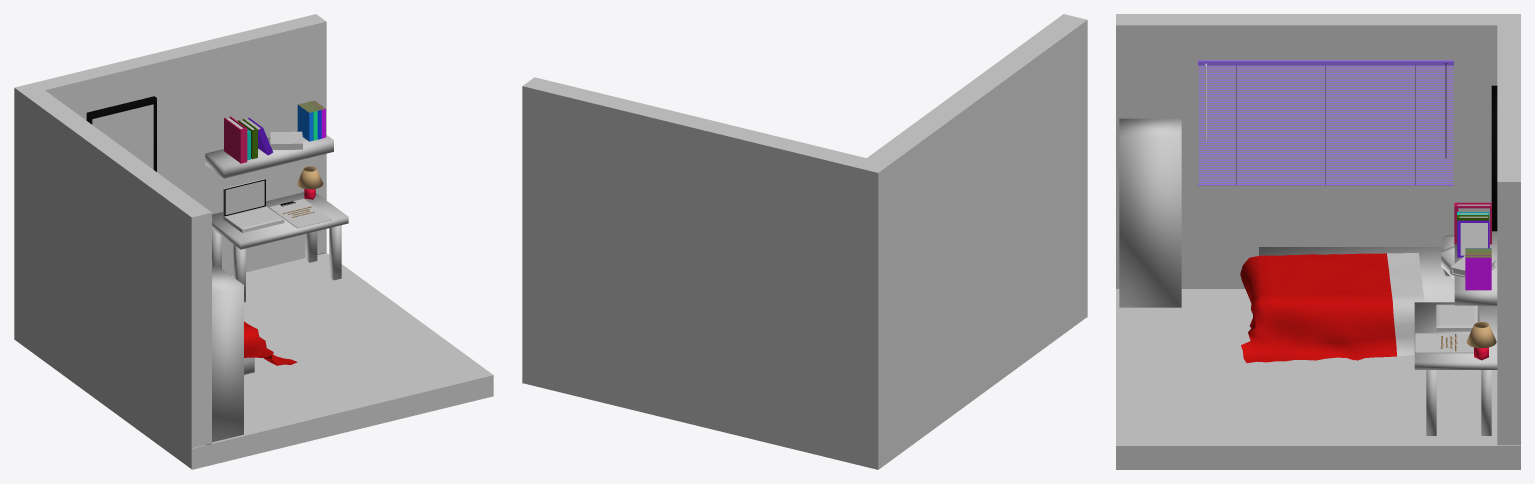
The model's file is projcom.obj.
3 renders of one model, left to right at view 1: azimuth 30°, elevation 25°; view 2: azimuth 150°, elevation 25°; view 3: azimuth 270°, elevation 25°, orthographic. The views are drawn at different scales.
Visible parts, largest first — view 1: Room_Wall_0, Room_Floor_0, Cube.005_Table_0, Table_Table_0, Book_CoverA_0, Cube.007_Images_0, Cube.004_Desktop_0, board_1_board_0, Book3_Book3_side_material_0, Plane_ClothB_0, Cube.007_Black_0, Cube.004_Computer_0 (+2 smaller); view 2: Room_Wall_0; view 3: Room_Wall_0, Room_Floor_0, Room_Windows_0, Venetian_slats_Plastic_venetian_material_0, Plane_ClothB_0, Cube.005_Wardrop_0, Table_Table_0, Book_CoverA_0, Cube_Bed_0, Plane_Cloth_0, VenetianFrame_Plastic_venetian_material_0, Cube.005_Table_0 (+7 smaller).
Part boxes in pixels (box(x1,y1,x2,y2)): Room_Wall_0: box(14, 14, 326, 468); Room_Floor_0: box(191, 252, 493, 469); Cube.005_Table_0: box(207, 265, 243, 444); Table_Table_0: box(212, 192, 348, 302); Book_CoverA_0: box(205, 116, 333, 178); Cube.007_Images_0: box(92, 104, 153, 169); Cube.004_Desktop_0: box(225, 180, 264, 214); board_1_board_0: box(269, 199, 331, 228); Book3_Book3_side_material_0: box(297, 100, 325, 141); Plane_ClothB_0: box(244, 321, 297, 365); Cube.007_Black_0: box(86, 96, 156, 171); Cube.004_Computer_0: box(223, 178, 284, 232); Room_Wall_0: box(522, 14, 1087, 469); Room_Wall_0: box(1116, 14, 1520, 445); Room_Floor_0: box(1116, 289, 1520, 469); Room_Windows_0: box(1187, 57, 1428, 194); Venetian_slats_Plastic_venetian_material_0: box(1198, 66, 1453, 182); Plane_ClothB_0: box(1240, 253, 1396, 362); Cube.005_Wardrop_0: box(1119, 137, 1181, 307); Table_Table_0: box(1414, 302, 1497, 435); Book_CoverA_0: box(1450, 202, 1497, 305); Cube_Bed_0: box(1259, 247, 1454, 302); Plane_Cloth_0: box(1387, 253, 1424, 356); VenetianFrame_Plastic_venetian_material_0: box(1198, 60, 1453, 65); Cube.005_Table_0: box(1119, 118, 1181, 137).
Bounding box in the file's own units: 7.84 × 6.26 × 7.98.
